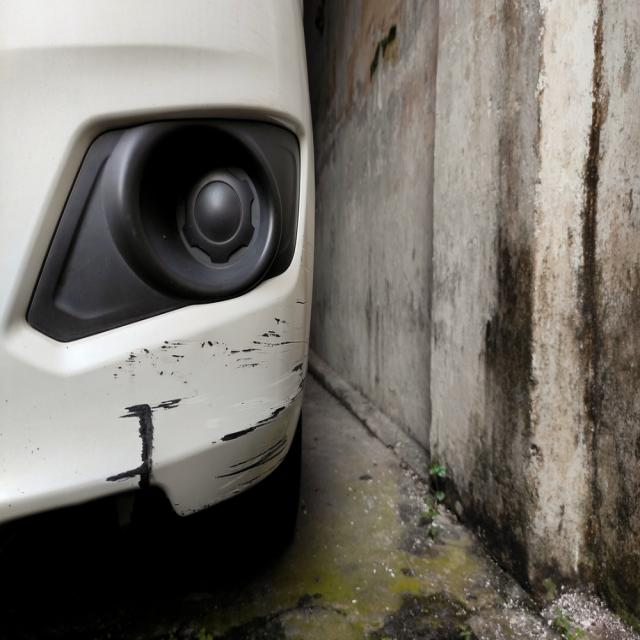scratch: (112, 292, 308, 493)
